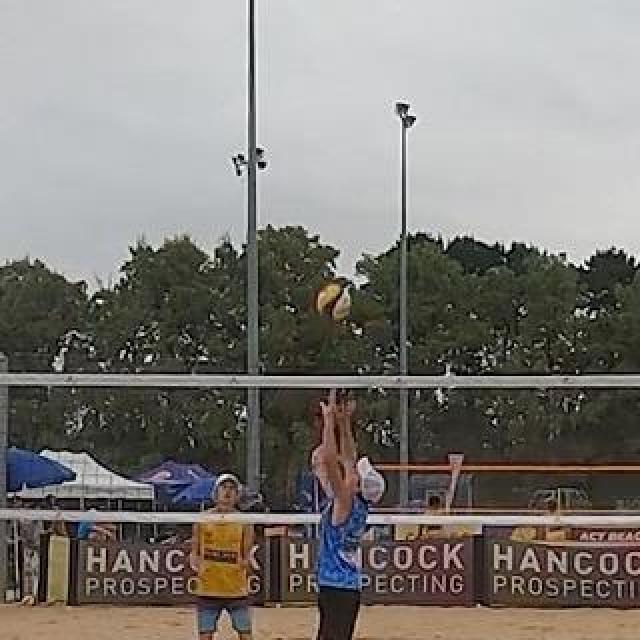volleyball: (316, 283, 350, 319)
